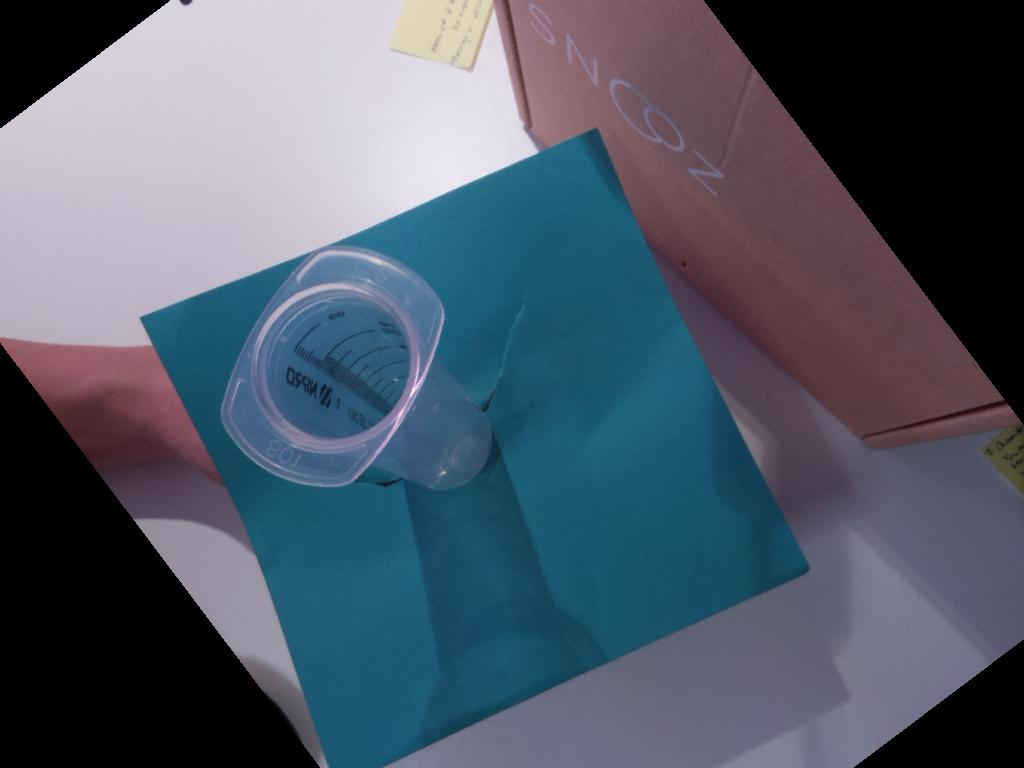clean: (217, 246, 445, 489)
